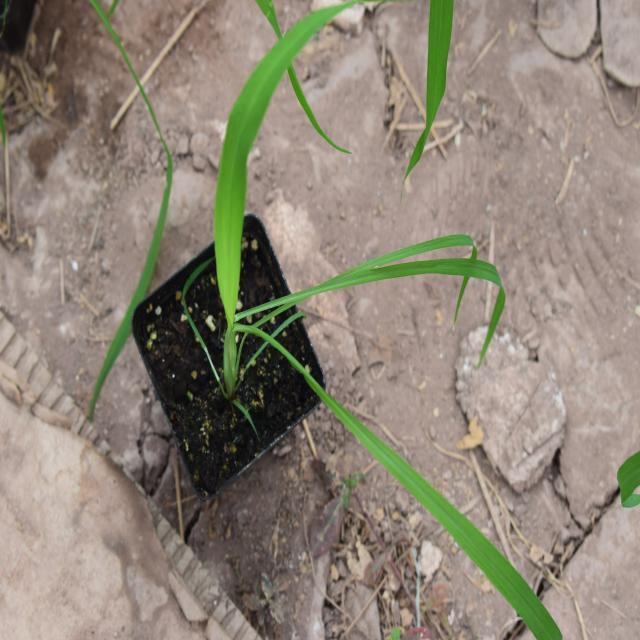barnyard_grass: (198, 22, 564, 605)
